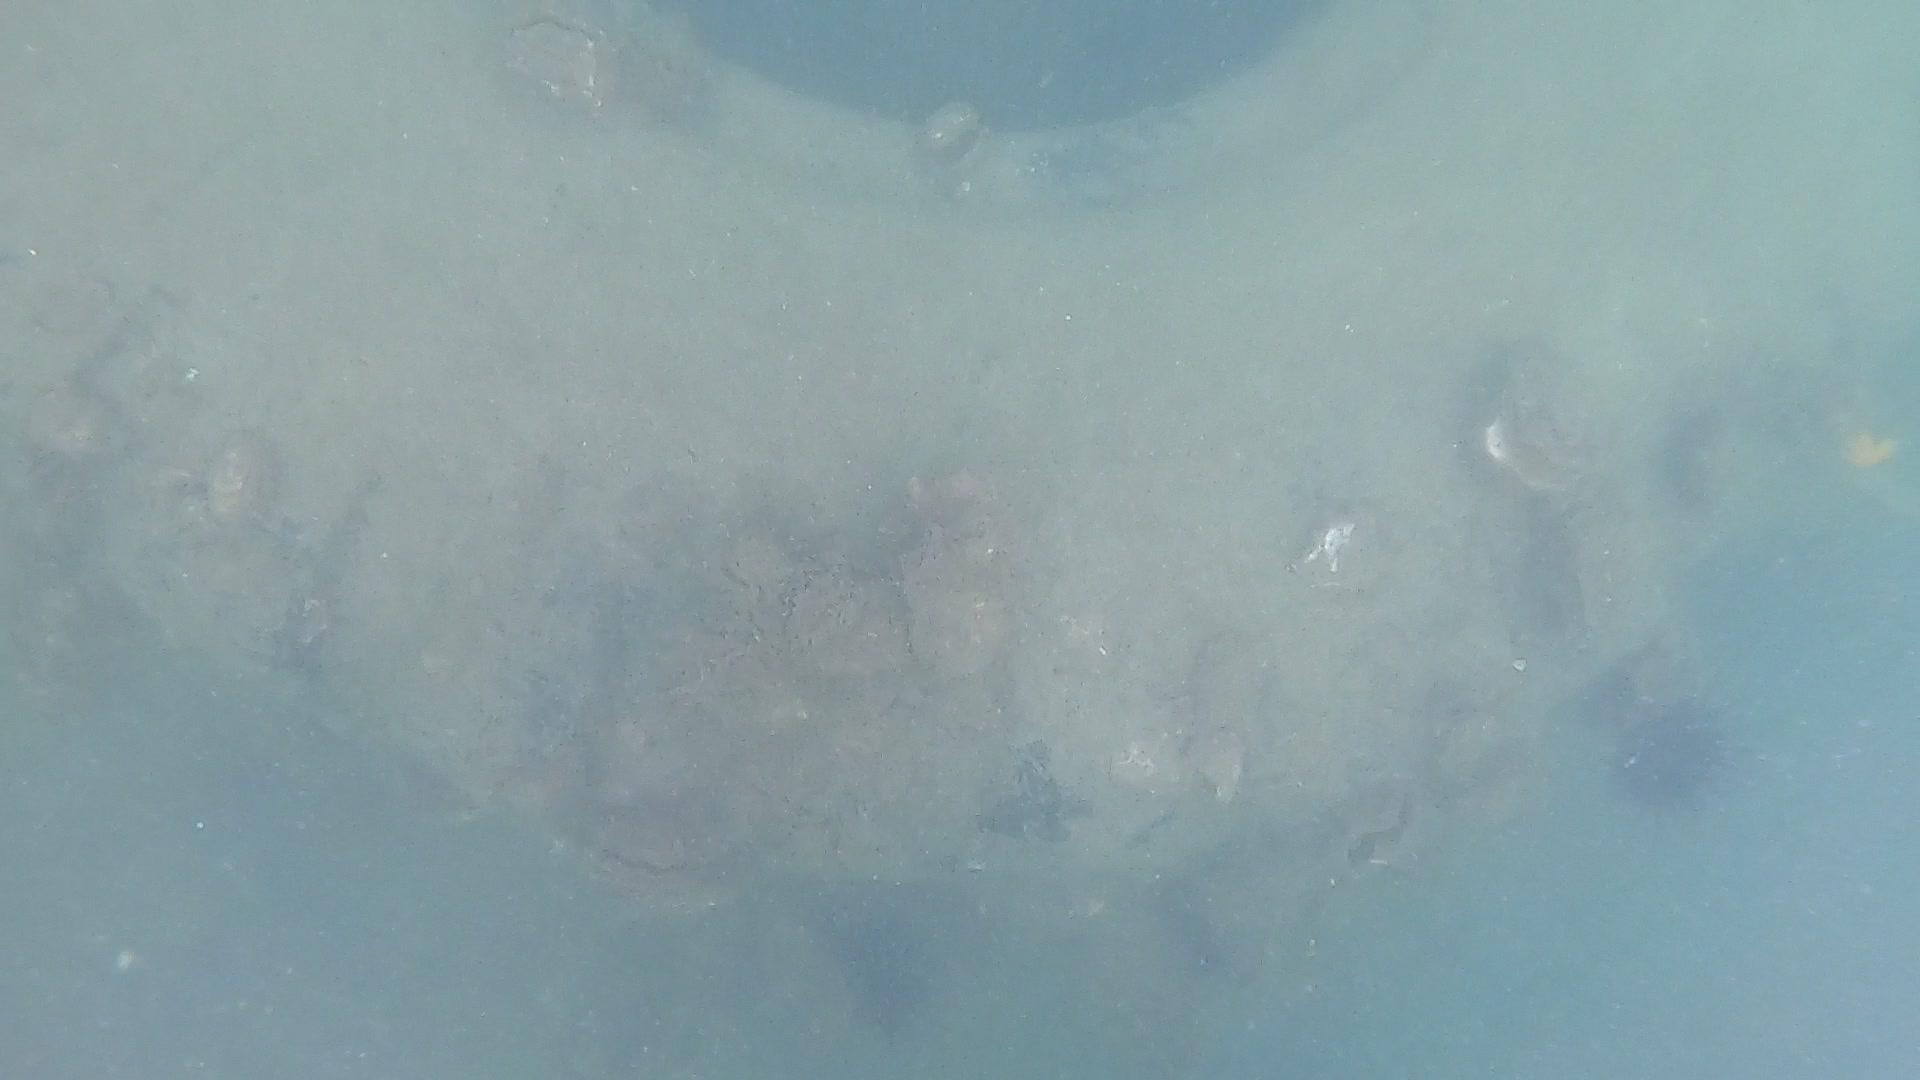tire: (0, 0, 1920, 878)
